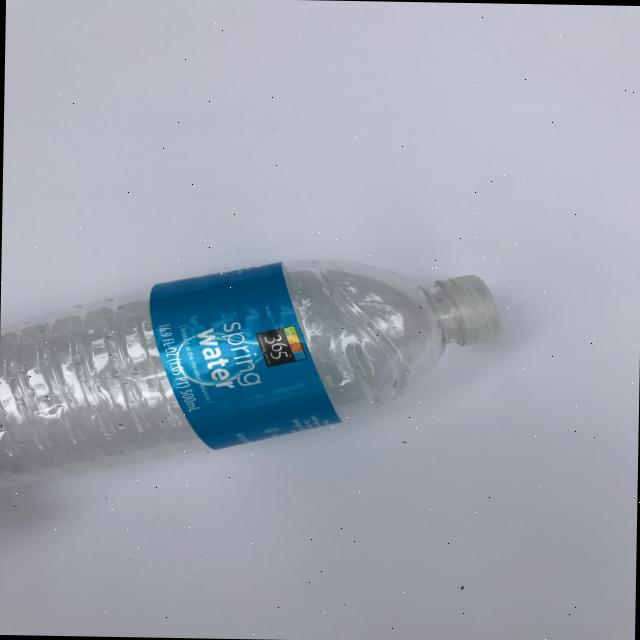plastic: (0, 251, 502, 494)
